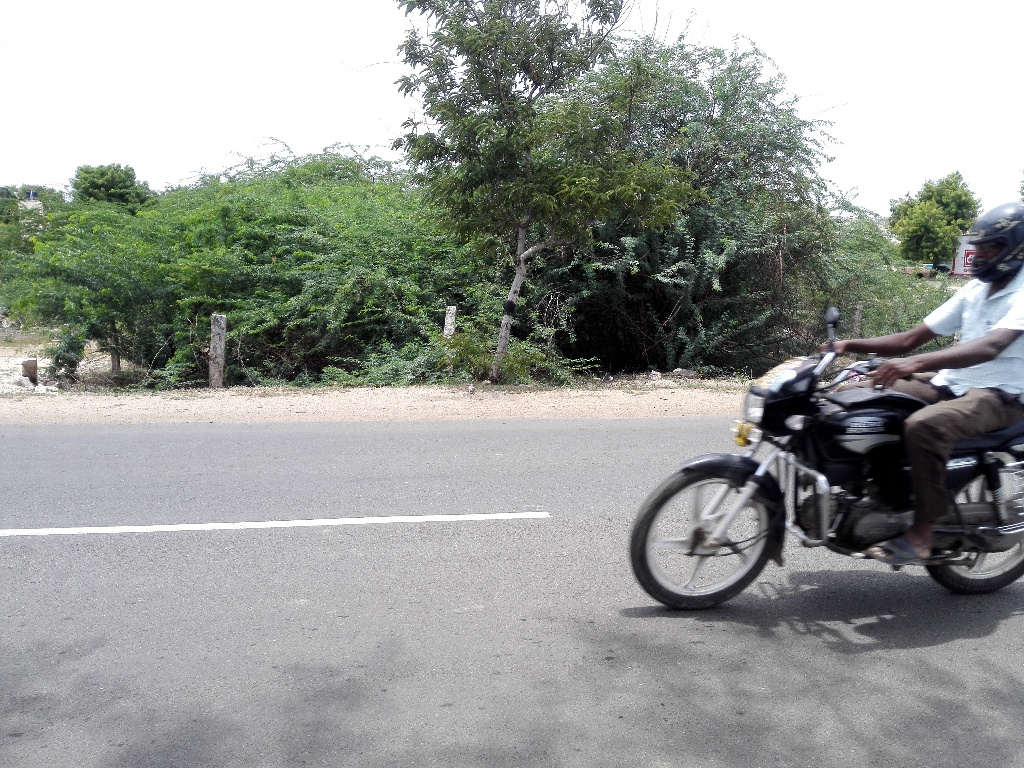biker: (608, 155, 1024, 630)
helmet: (950, 188, 1024, 296)
